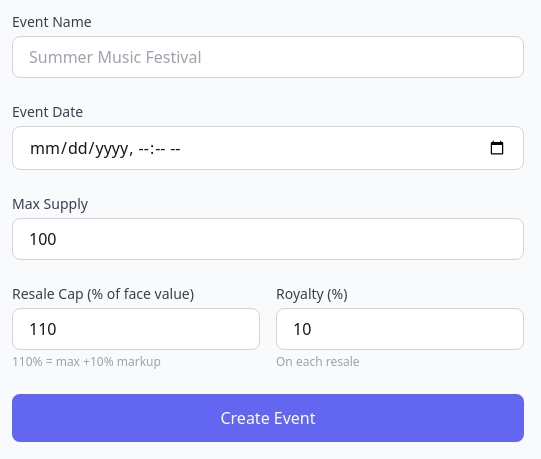
Scenario: EventForm › shows Creating... while submitting
Type "My Concert" into the field with placeholder "Summer Music Festival" at (268, 57), box [12, 36, 524, 78]
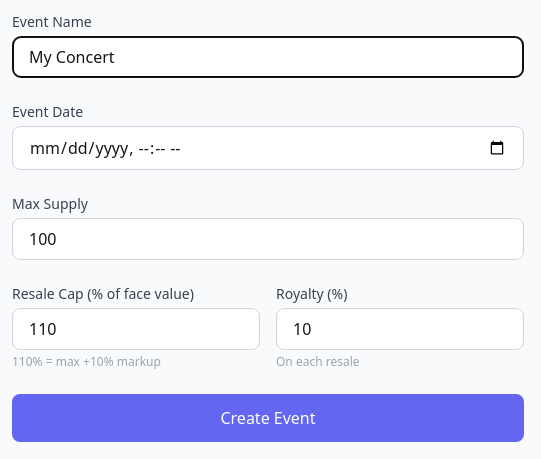
Type "2026-08-20T19:00" into the field below "Event Date" at (268, 148), box [12, 126, 524, 170]
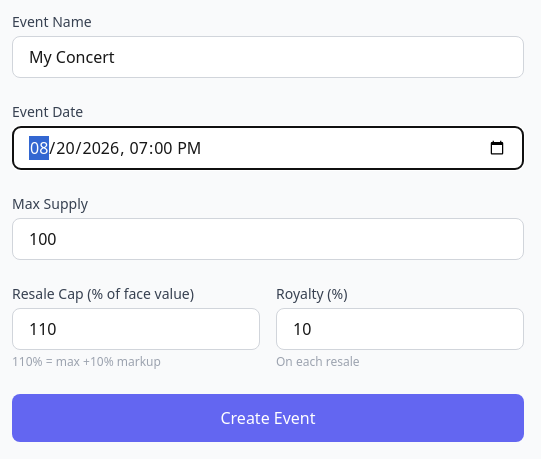
Click the button "Create Event" at (268, 418), box [12, 394, 524, 442]
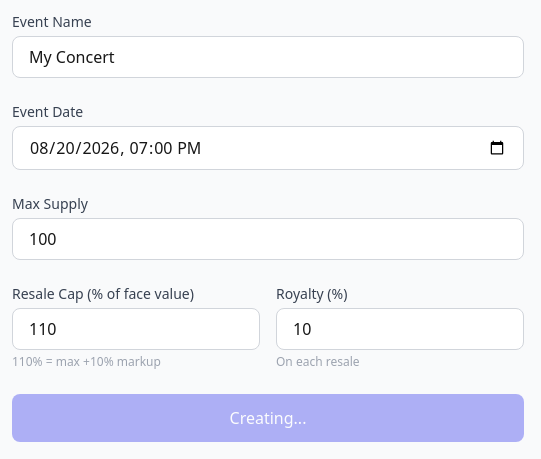
Now the button "Creating..." is shown, box [12, 394, 524, 442]
